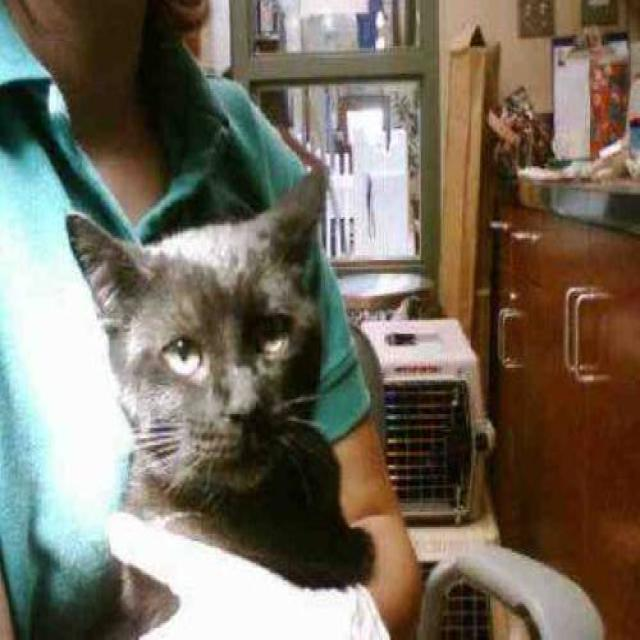cat: (64, 166, 376, 637)
